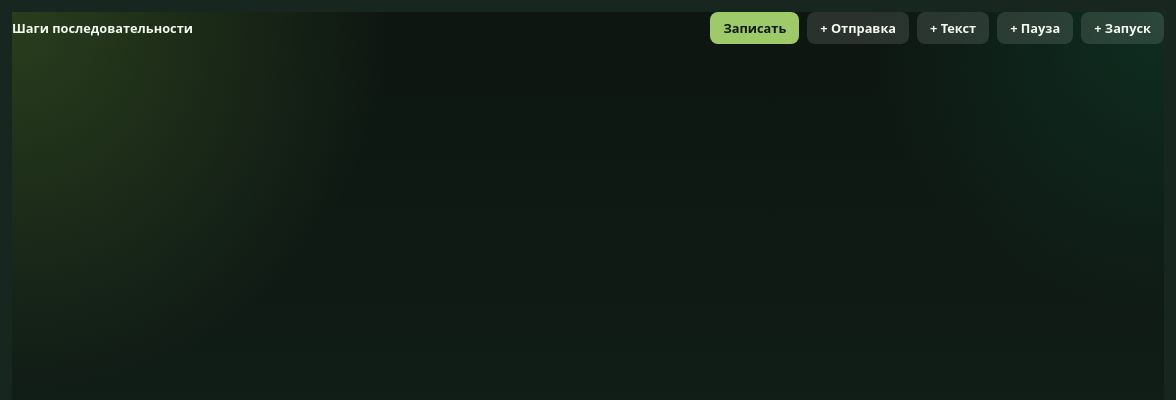
SequenceStepEditor macro recorder (F3) › captures the Win (Meta) modifier that the old recorder dropped
What coordinates should you click on to do the following:
click the button "Записать"
I would click on:
 (755, 28)
Its box is [710, 12, 799, 44].
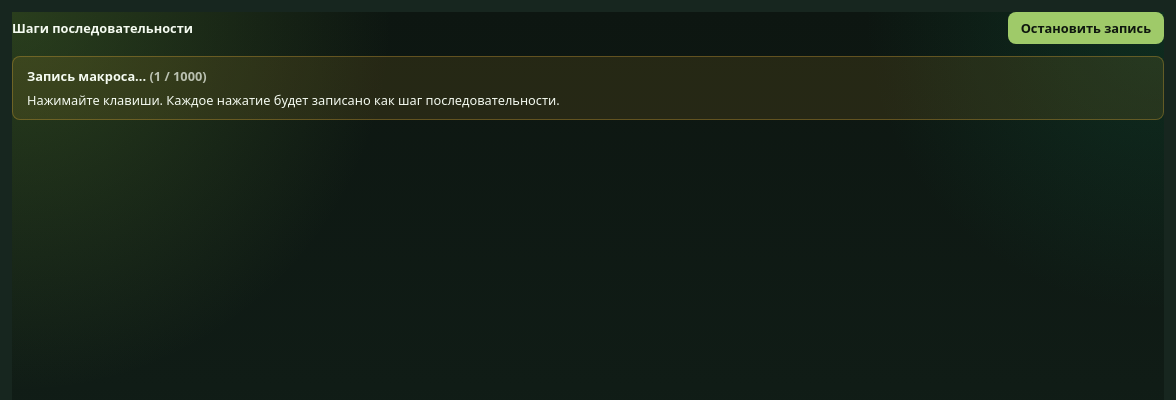
Expected: the button "Остановить запись" is shown, [1008, 12, 1164, 44]
